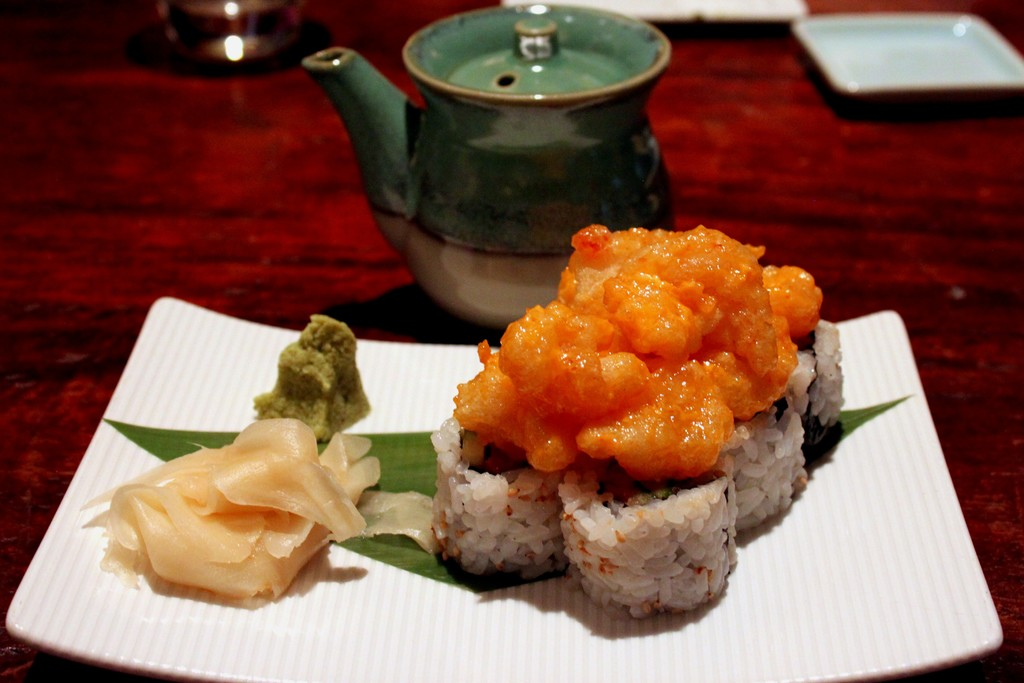sushi: (545, 446, 746, 625), (421, 408, 570, 601), (708, 390, 810, 529), (775, 311, 852, 462)
